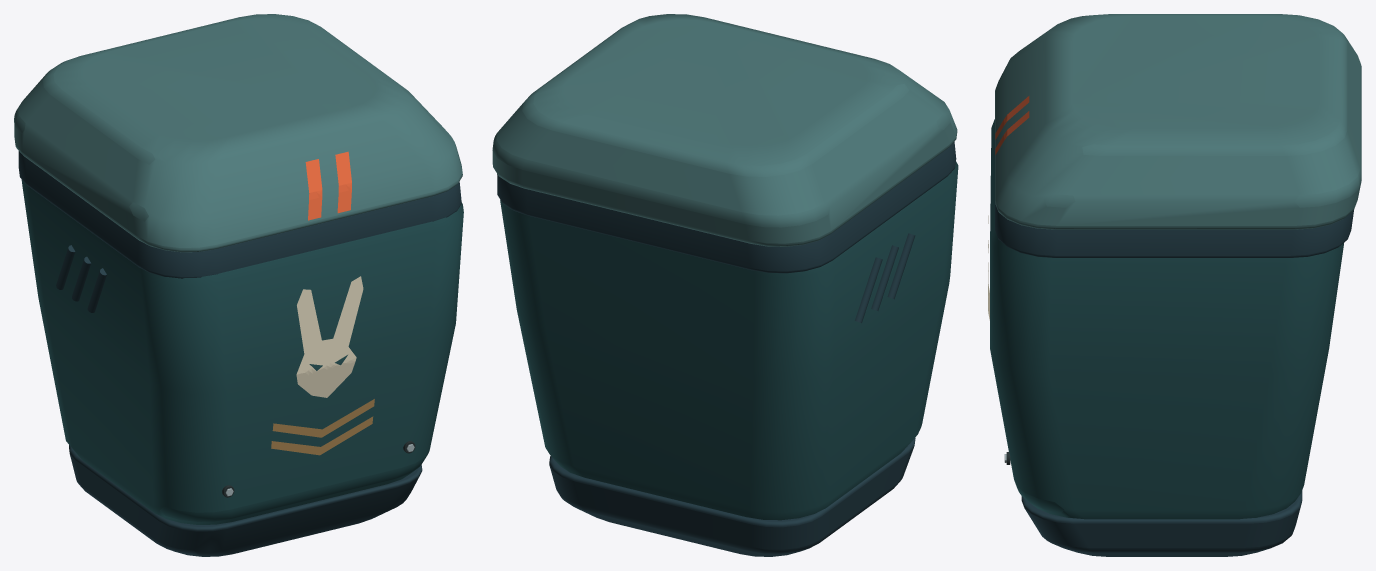
File: SM_Mk2_Arm_L_04_Shoulder_Armor.fbx
3 renders of one model, left to right at view 1: azimuth 30°, elevation 25°; view 2: azimuth 150°, elevation 25°; view 3: azimuth 270°, elevation 25°, orthographic. The views are drawn at different scales.
Parts seen in each view (by area): view 1: SM_Mk2_Arm_L_04_Shoulder_Armor; view 2: SM_Mk2_Arm_L_04_Shoulder_Armor; view 3: SM_Mk2_Arm_L_04_Shoulder_Armor.
Boxes of the visible parts, left/top/right/bottom form: SM_Mk2_Arm_L_04_Shoulder_Armor: left=14, top=14, right=463, bottom=556; SM_Mk2_Arm_L_04_Shoulder_Armor: left=492, top=14, right=958, bottom=556; SM_Mk2_Arm_L_04_Shoulder_Armor: left=988, top=14, right=1361, bottom=556.
Bounding box in the file's own units: 41.04 × 39.64 × 50.5.
